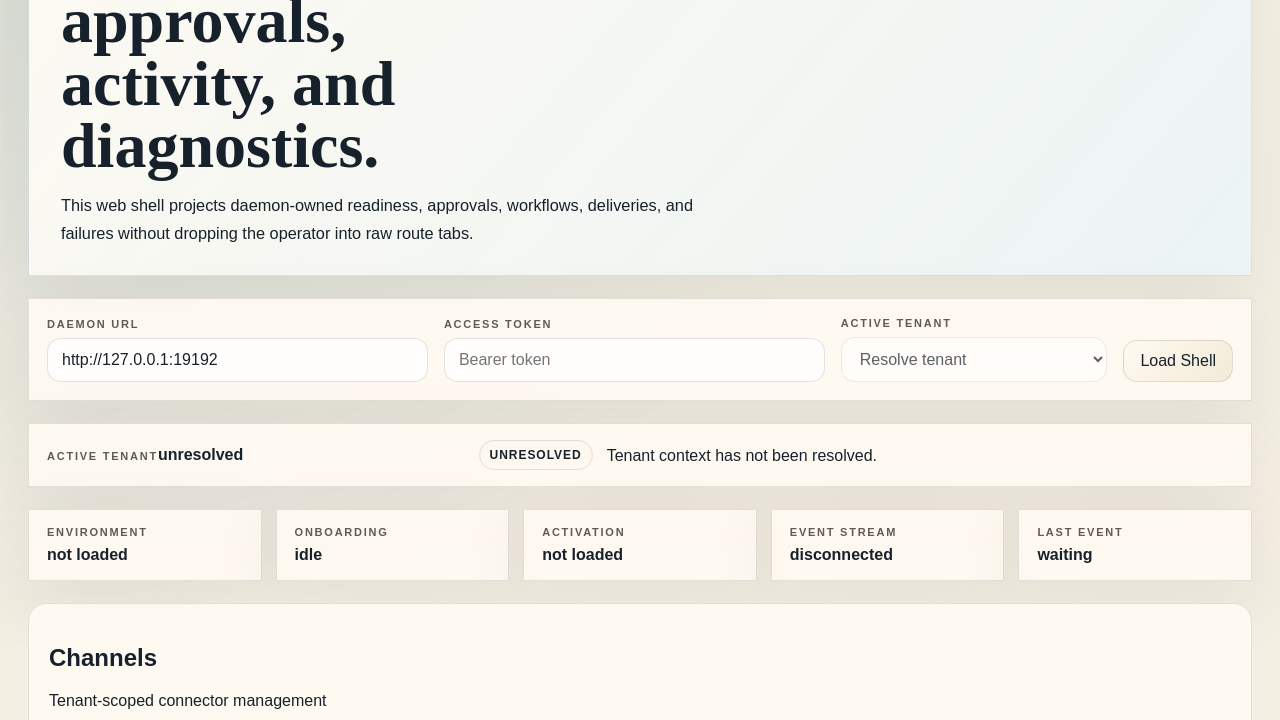
Test: App › renders activation readiness, quota baseline, environment, and the test chat action
(page scrolled)
Type "token" into the password field labelled "Access Token".
click(634, 360); type("token")  # box [444, 338, 825, 382]
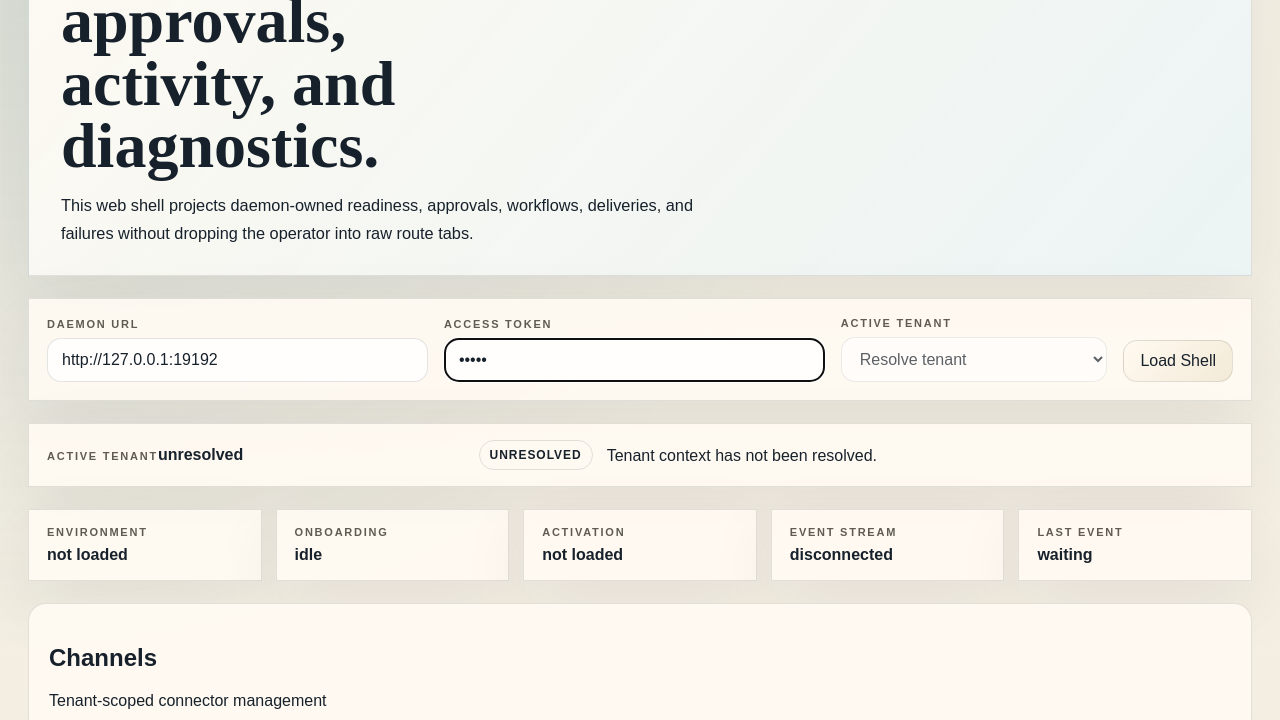
Click the button "Load Shell".
click(1178, 362)  # box [1123, 340, 1233, 382]
(page scrolled)
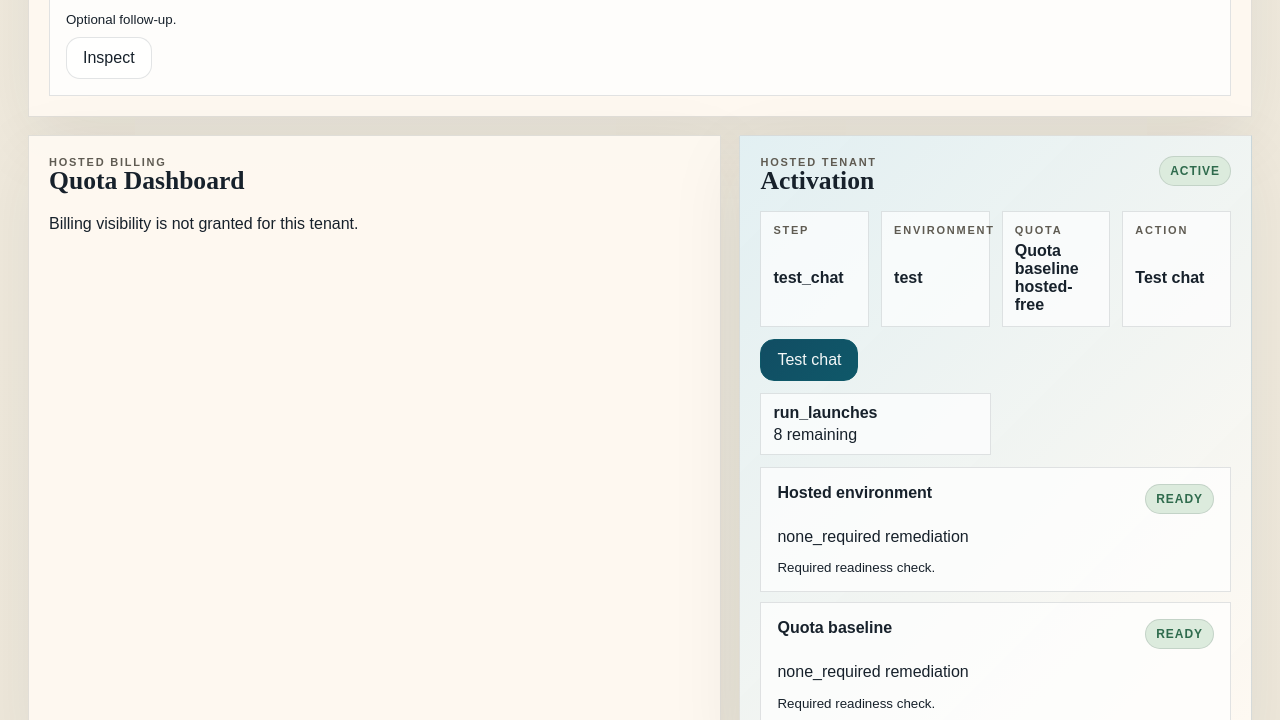
Expected: the text "Quota baseline hosted-free" is shown, [1015, 242, 1079, 313]
Expected: the text "run_launches" is shown, [773, 404, 877, 421]
Expected: the text "8 remaining" is shown, [773, 426, 857, 443]
